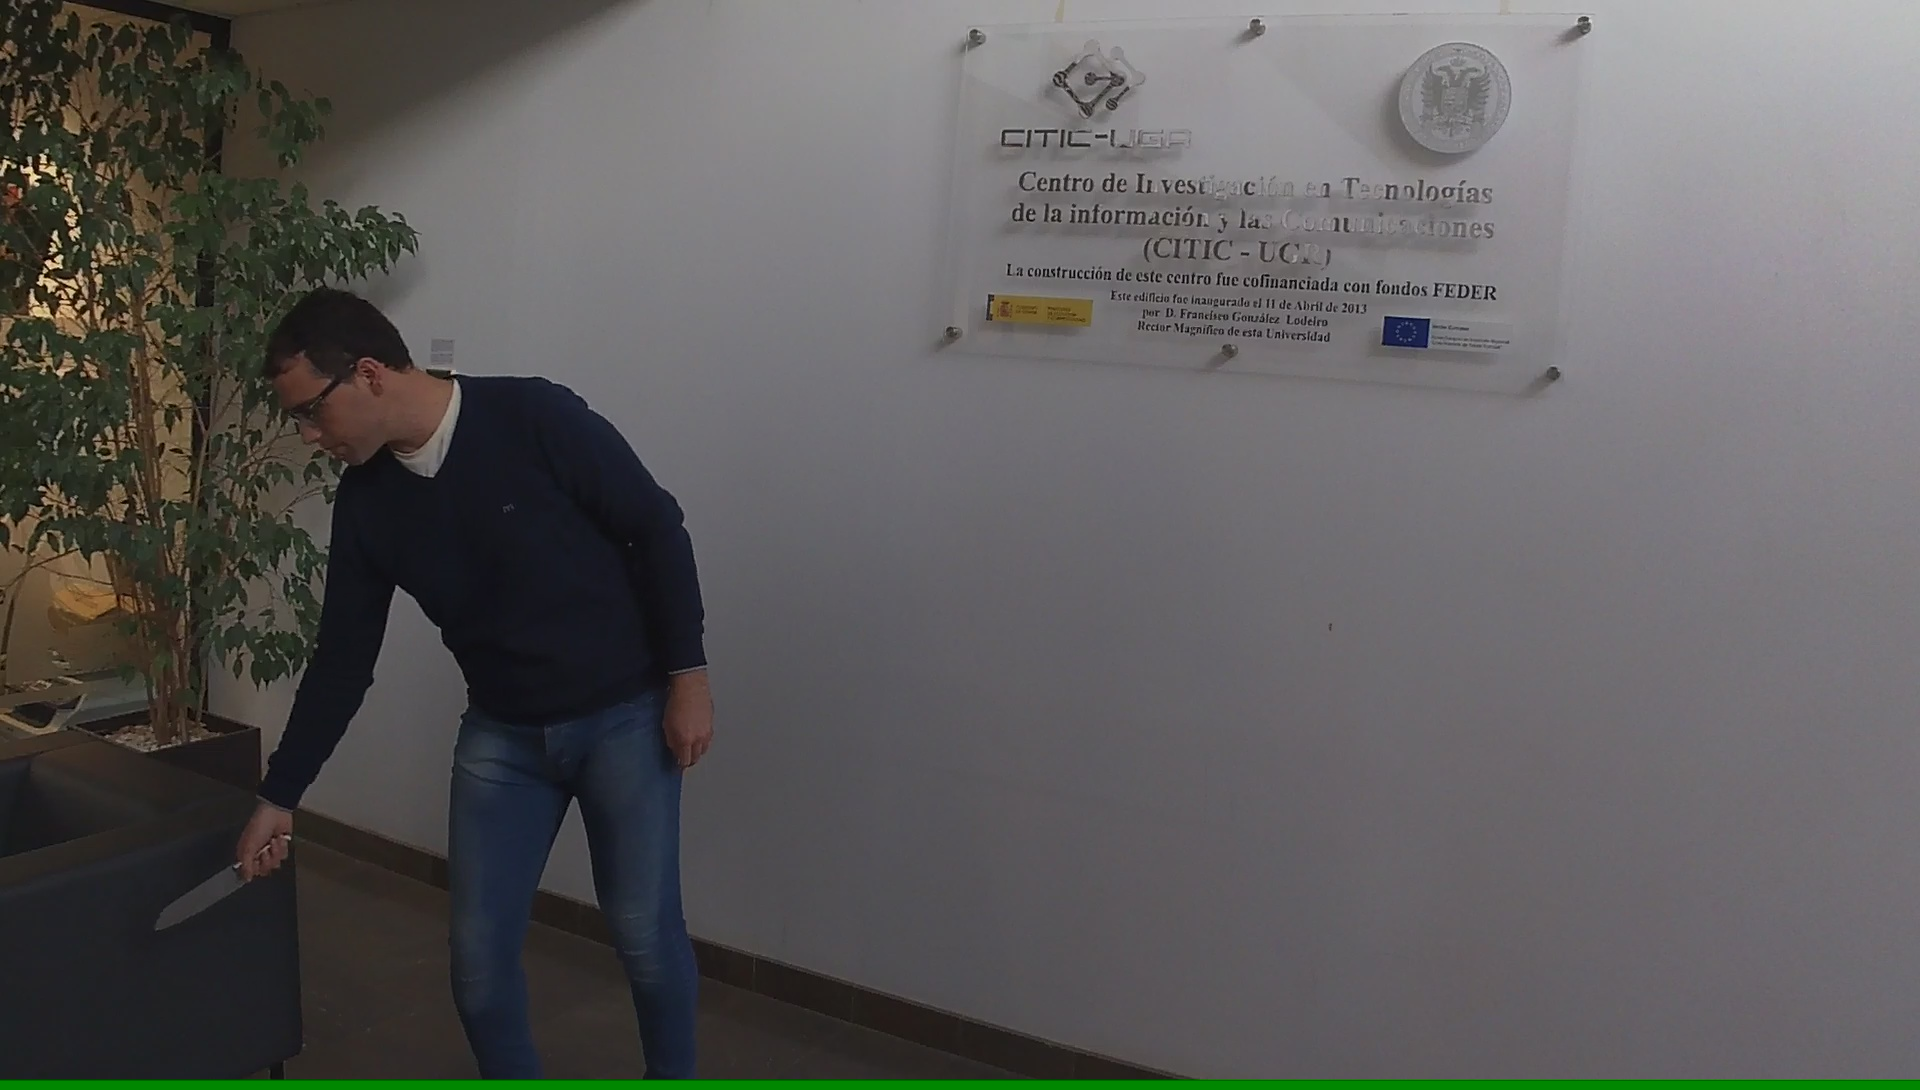knife: (145, 829, 298, 940)
